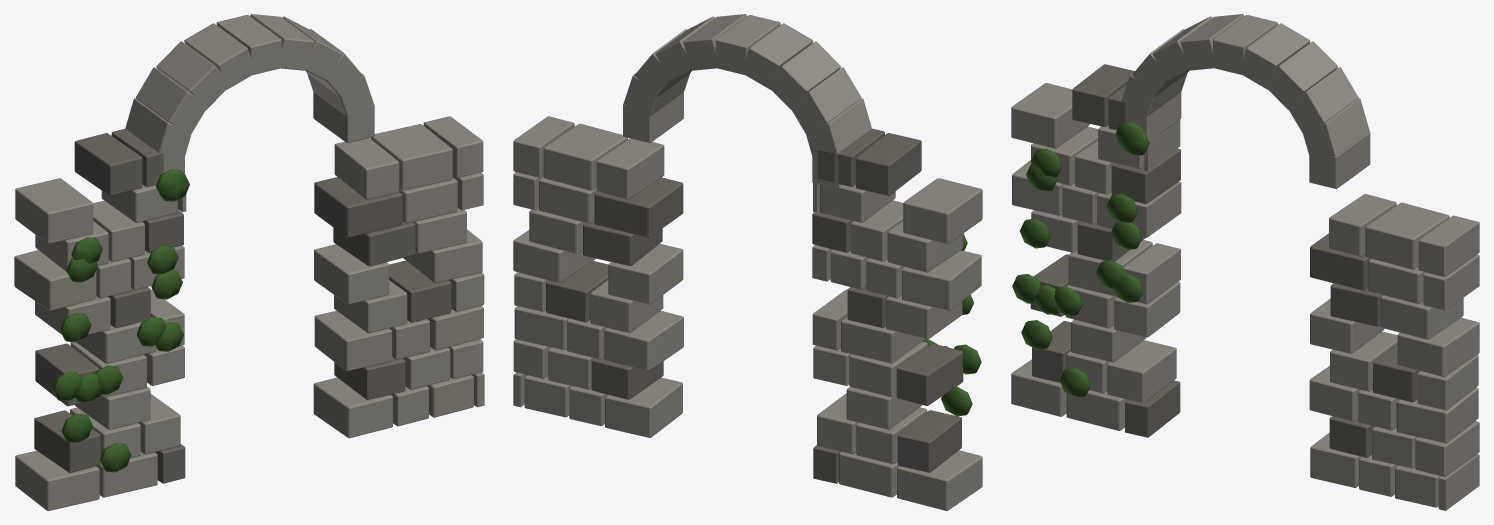
Rendered from ruine_bogen.glb.
3 views of the same model, side by side, from view 1: azimuth 30°, elevation 25°; view 2: azimuth 150°, elevation 25°; view 3: azimuth 330°, elevation 25° (orthographic).
Visible parts, largest first — view 1: Cube; view 2: Cube; view 3: Cube.
Boxes of the visible parts, box(x1,y1,x2,y2) form: Cube: box(14, 14, 484, 510); Cube: box(513, 14, 982, 510); Cube: box(1011, 14, 1479, 510).
Bounding box in the file's own units: 4.39 × 3.98 × 0.6768.
